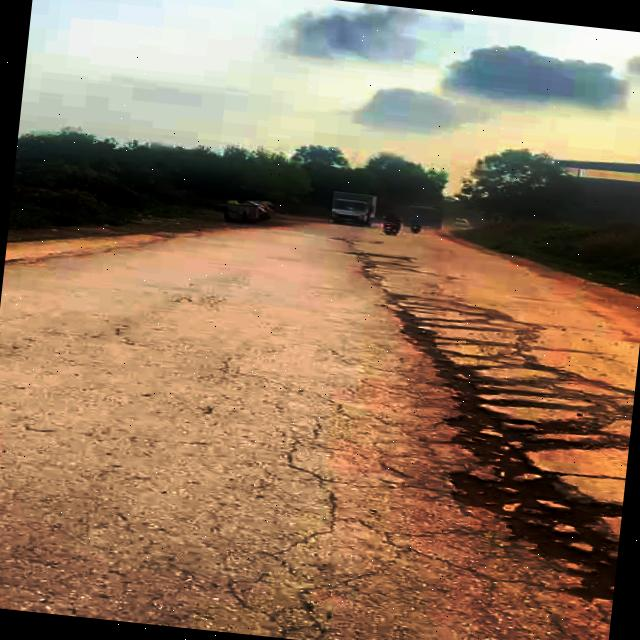pothole: (382, 318, 640, 461), (414, 444, 626, 611)
